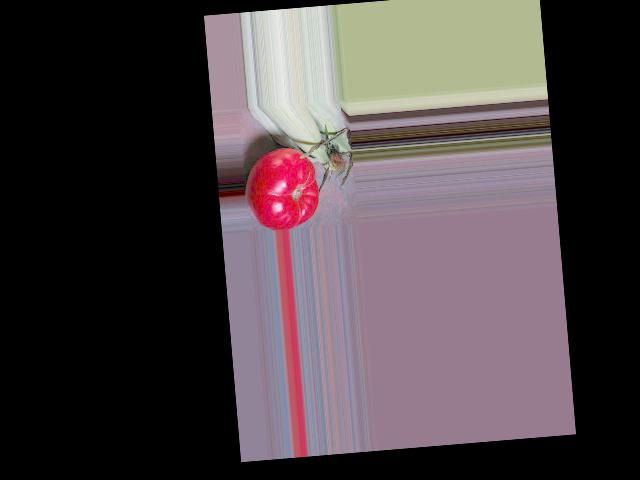tomato: (241, 145, 321, 232)
